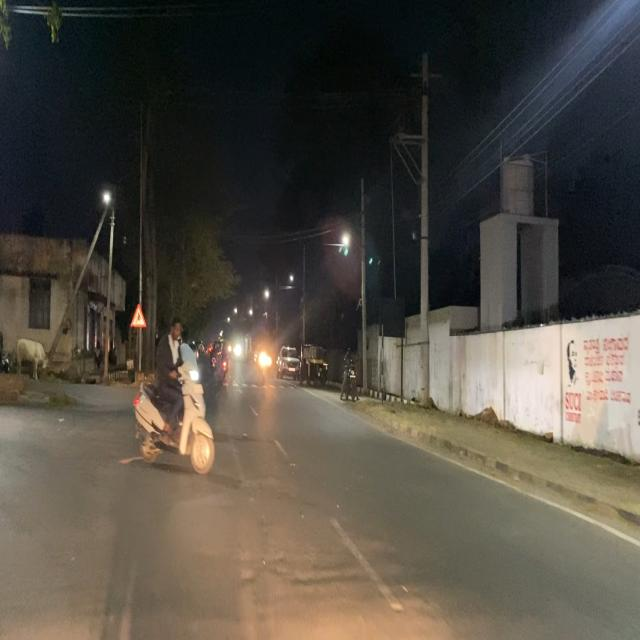bien_cam: (130, 303, 146, 329)
